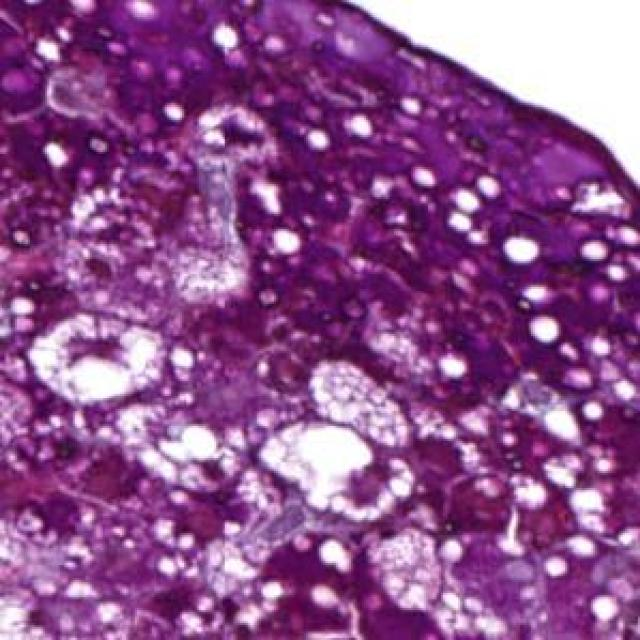ballooning: (255, 415, 420, 527), (24, 312, 171, 411), (308, 355, 418, 454)
